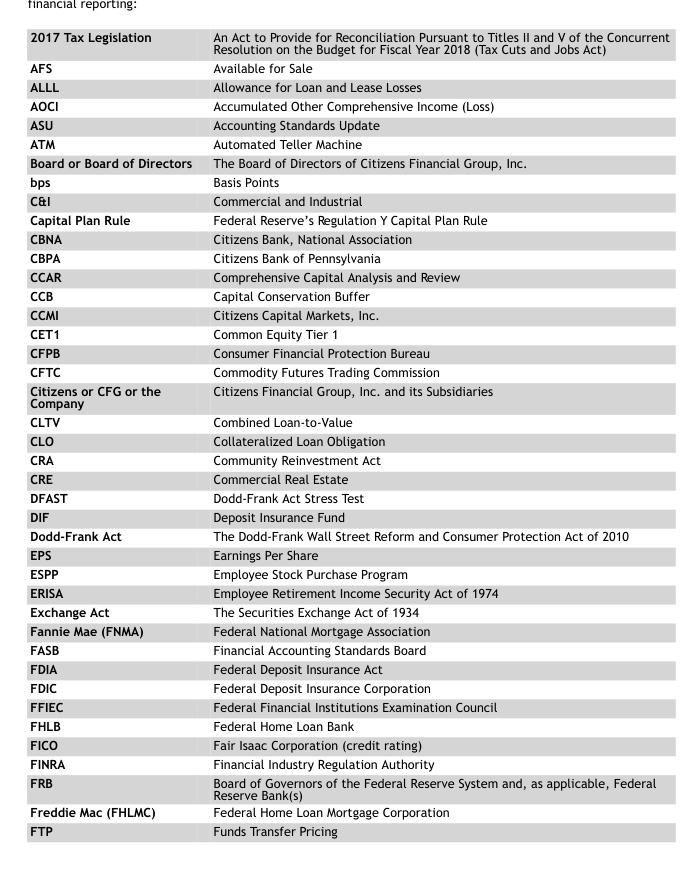table: (29, 28, 669, 837)
table column: (201, 28, 669, 837), (29, 28, 201, 837)
table row: (29, 380, 669, 412), (29, 772, 669, 803), (29, 28, 669, 58), (29, 58, 669, 77), (29, 77, 669, 96), (29, 96, 669, 115), (29, 115, 669, 134), (29, 134, 669, 153), (29, 153, 669, 172), (29, 172, 669, 191), (29, 191, 669, 210), (29, 228, 669, 247), (29, 247, 669, 266), (29, 266, 669, 285), (29, 285, 669, 304), (29, 304, 669, 323), (29, 323, 669, 342), (29, 342, 669, 361), (29, 361, 669, 380), (29, 412, 669, 431), (29, 431, 669, 450), (29, 450, 669, 469), (29, 469, 669, 488), (29, 488, 669, 507), (29, 507, 669, 526), (29, 526, 669, 545), (29, 545, 669, 564), (29, 564, 669, 583), (29, 601, 669, 620), (29, 620, 669, 639), (29, 639, 669, 658), (29, 658, 669, 677), (29, 677, 669, 696), (29, 696, 669, 715), (29, 715, 669, 734), (29, 734, 669, 753), (29, 753, 669, 772), (29, 210, 669, 228), (29, 583, 669, 601), (29, 803, 669, 820), (29, 820, 669, 837)
